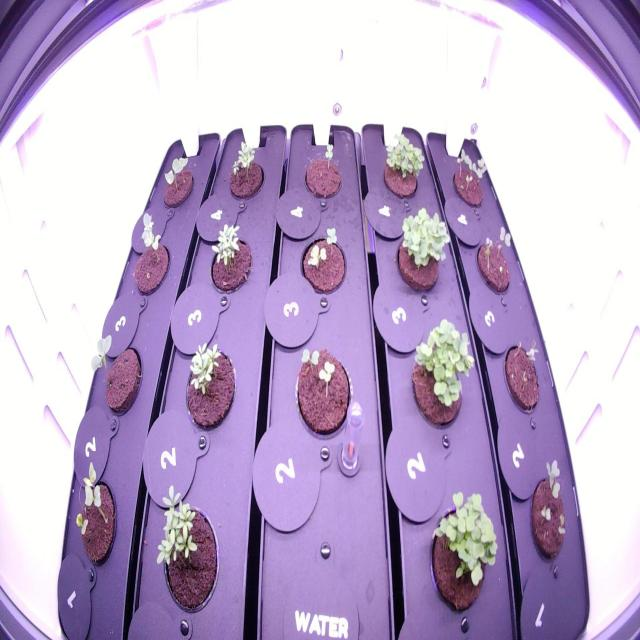germination: (146, 472, 223, 619), (427, 476, 502, 622), (407, 313, 479, 438), (287, 338, 357, 444), (66, 458, 127, 576), (394, 202, 454, 302), (523, 454, 573, 569), (178, 337, 238, 432), (86, 332, 146, 424), (124, 206, 176, 306), (292, 222, 349, 304), (198, 219, 254, 298), (471, 220, 521, 304), (498, 329, 544, 420), (293, 139, 347, 212), (377, 126, 427, 202), (220, 134, 268, 207), (444, 145, 494, 213), (155, 145, 196, 211)
